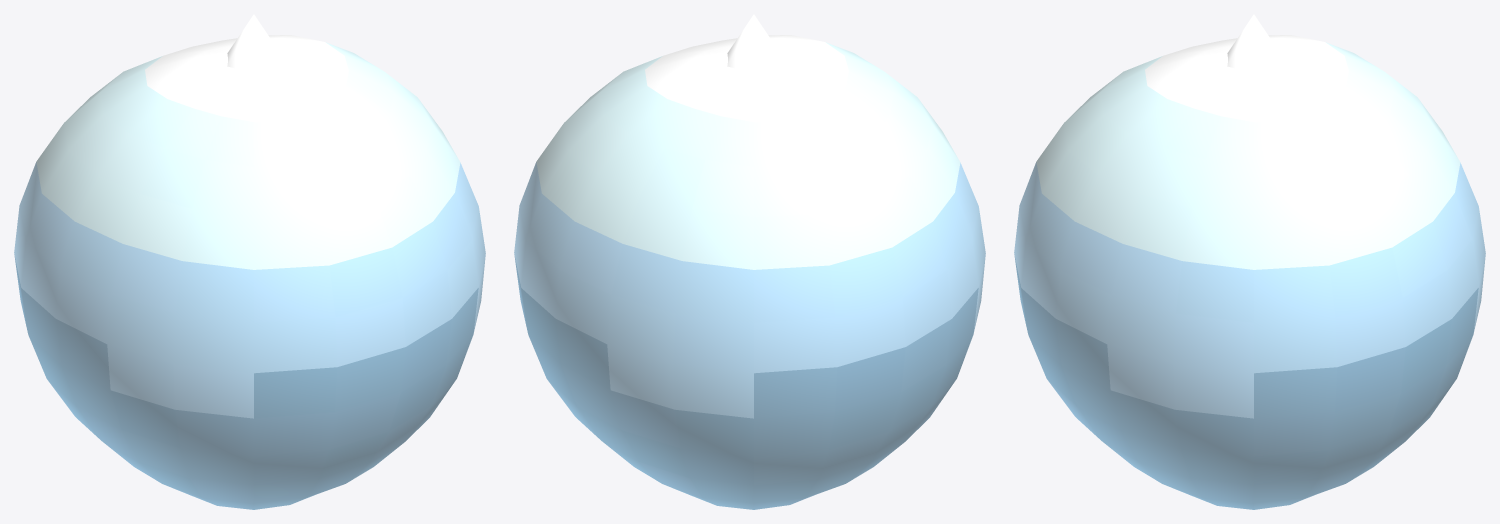
The model's file is Iceberry.glb.
The picture shows the model from 3 angles, left to right: view 1: azimuth 30°, elevation 25°; view 2: azimuth 150°, elevation 25°; view 3: azimuth 270°, elevation 25°; orthographic projection.
Visible parts, largest first — view 1: Iceberry; view 2: Iceberry; view 3: Iceberry.
Boxes of the visible parts, left/top/right/bottom form: Iceberry: left=14, top=14, right=485, bottom=509; Iceberry: left=514, top=14, right=985, bottom=509; Iceberry: left=1014, top=14, right=1485, bottom=509.
Bounding box in the file's own units: 0.44 × 0.484 × 0.4399.
